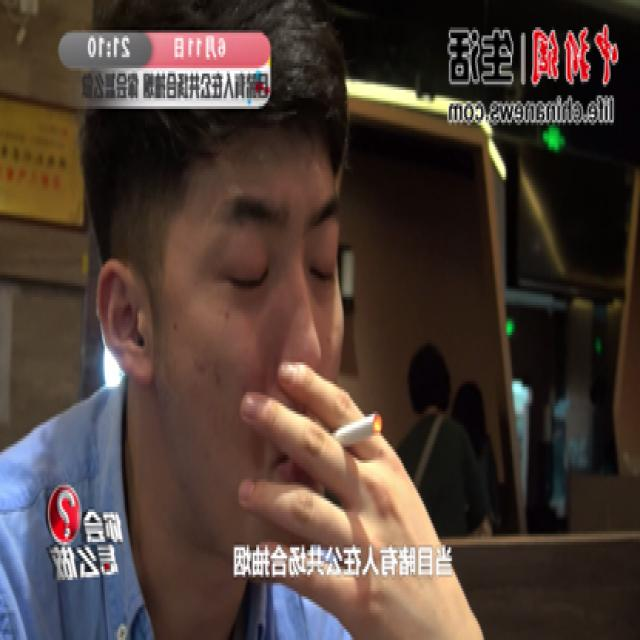smoking: (319, 401, 385, 464)
